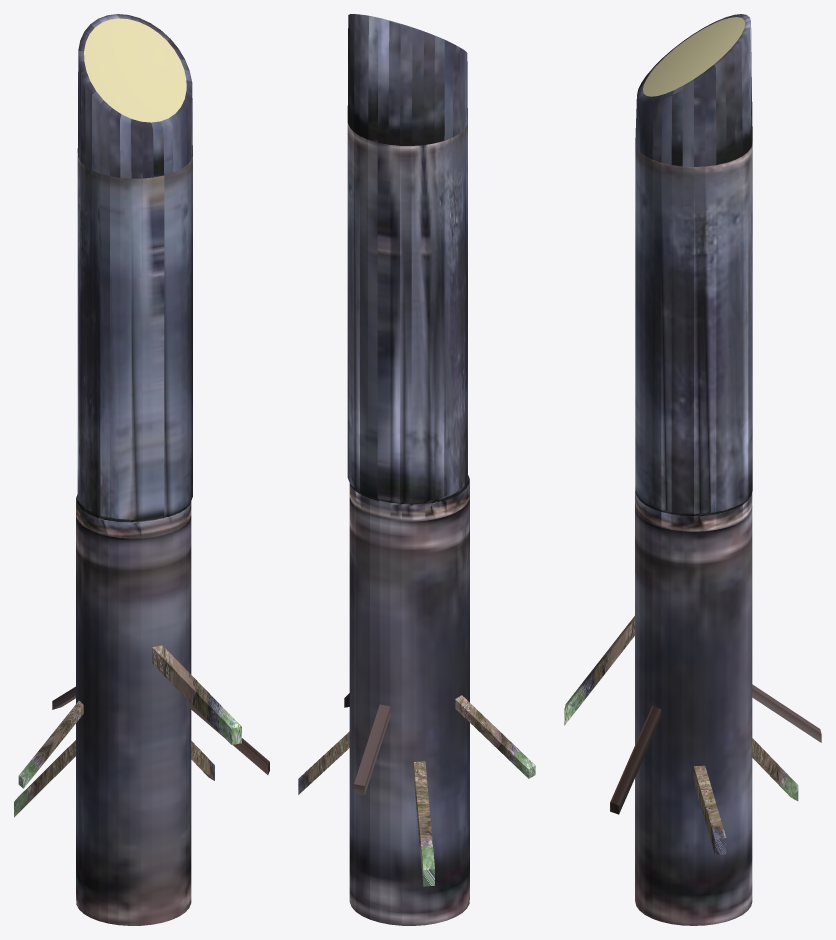
Rendered from bibit tebu.fbx.
The picture shows the model from 3 angles, left to right: view 1: azimuth 30°, elevation 25°; view 2: azimuth 150°, elevation 25°; view 3: azimuth 270°, elevation 25°; orthographic projection. The views are drawn at different scales.
Visible parts, largest first — view 1: sugercane.001; view 2: sugercane.001; view 3: sugercane.001.
Part boxes in pixels (left/top/right/bottom): sugercane.001: left=14, top=14, right=269, bottom=925; sugercane.001: left=298, top=14, right=535, bottom=925; sugercane.001: left=564, top=14, right=821, bottom=925.
Size of the model in its own units: 56.81 by 219 by 57.83.
Materials: 3 (2 with a texture image).
